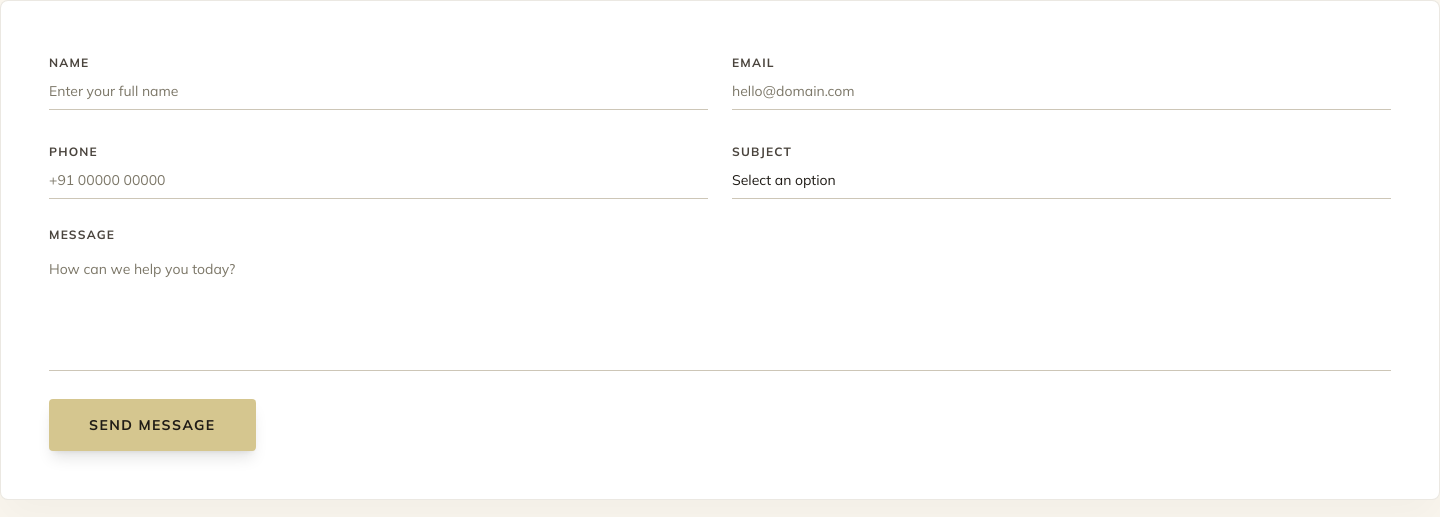
it: ContactForm › Zod validation › strips non-phone characters as the user types
Type "abc98765def43210" into the field with test id "contact-phone-input" at (378,180), box [49,162,708,199]
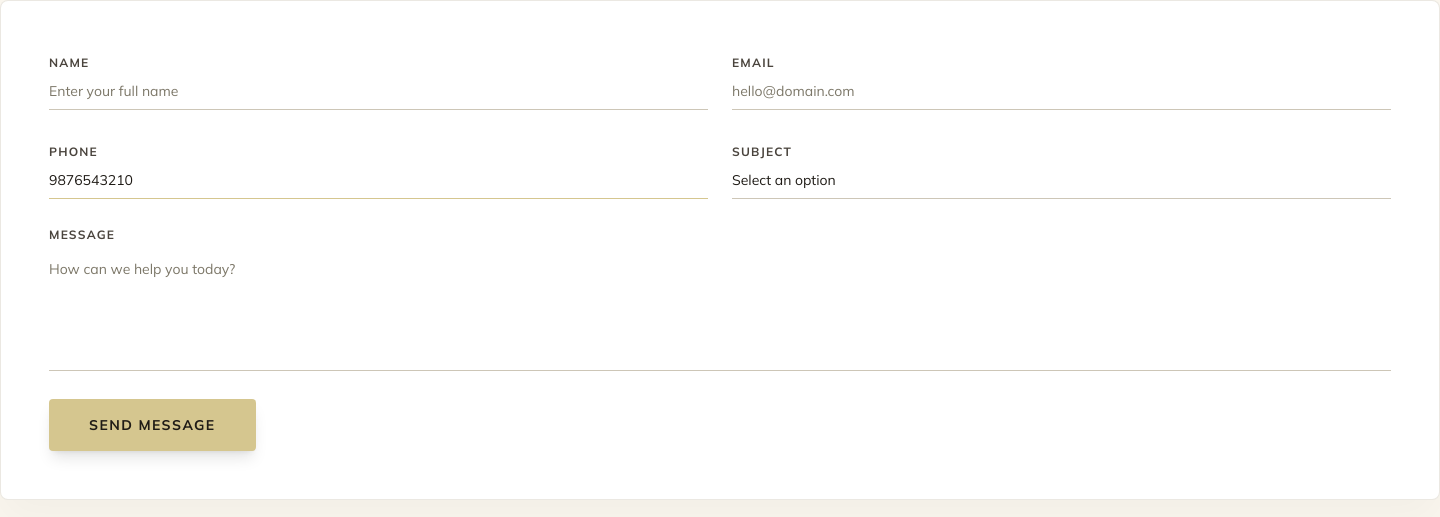
Expected: the field with test id "contact-phone-input" holds "9876543210", [49,162,708,199]
